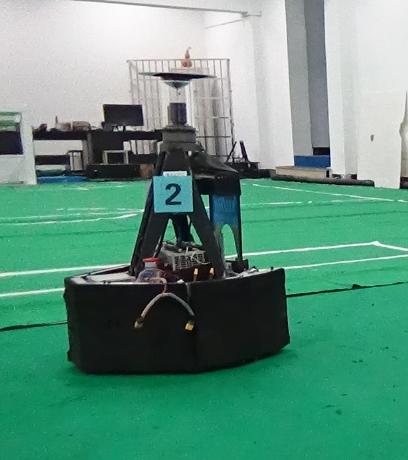robot: (62, 62, 294, 381)
